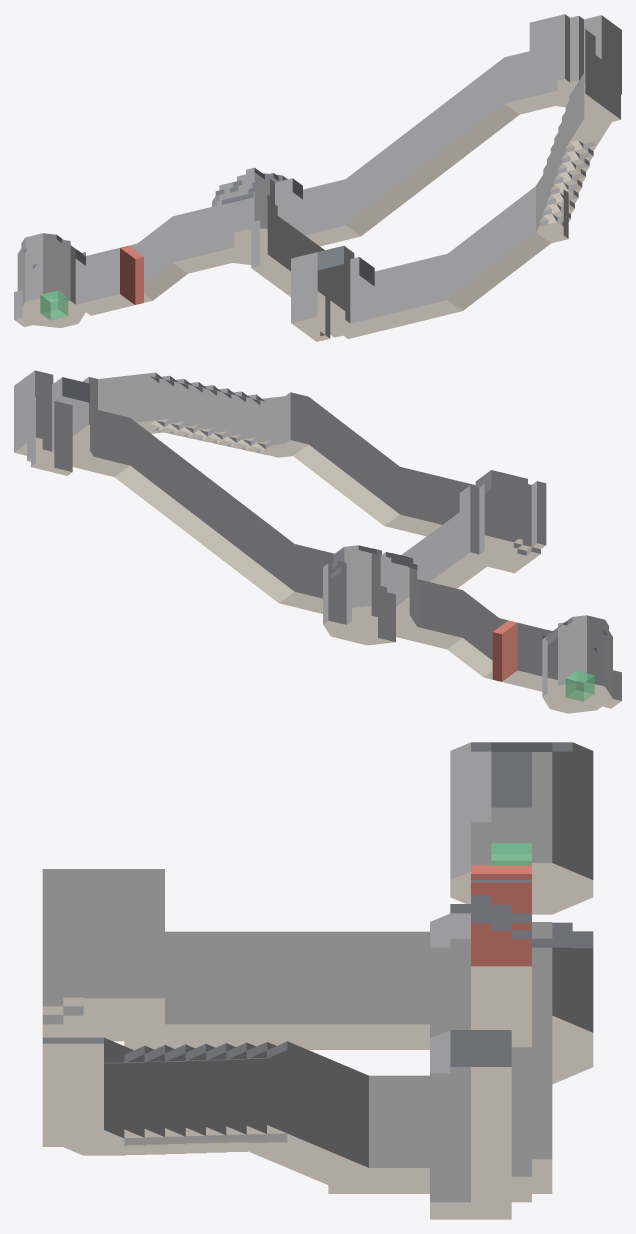
Rendered from habitat_08.glb.
3 views of the same model, one above another, from view 1: azimuth 30°, elevation 25°; view 2: azimuth 150°, elevation 25°; view 3: azimuth 270°, elevation 25° (orthographic). The views are drawn at different scales.
Visible parts, largest first — view 1: corridor:3, corridor:0, corridor:1, room:2, room:3, corridor:2, room:0, room:1, room:1/portals, entities, room:0/portals, room:3/portals (+2 smaller); view 2: corridor:3, corridor:0, corridor:1, room:2, room:3, room:1, corridor:2, room:0, room:1/portals, room:0/portals, entities, room:3/bases (+3 smaller); view 3: corridor:3, corridor:2, room:3, room:2, room:0, room:1, room:0/portals, entities, room:1/portals, corridor:1, corridor:0, room:1/cavern (+3 smaller).
Boxes of the visible parts, bbox=[...] form: corridor:3: bbox=[359, 55, 620, 332]; corridor:0: bbox=[292, 48, 554, 246]; corridor:1: bbox=[75, 205, 231, 315]; room:2: bbox=[17, 233, 85, 328]; room:3: bbox=[291, 245, 374, 341]; corridor:2: bbox=[251, 216, 343, 316]; room:0: bbox=[529, 14, 621, 107]; room:1: bbox=[212, 167, 287, 265]; room:1/portals: bbox=[217, 178, 292, 261]; entities: bbox=[40, 245, 143, 320]; room:0/portals: bbox=[540, 26, 595, 100]; room:3/portals: bbox=[345, 255, 359, 323]; corridor:3: bbox=[62, 372, 491, 541]; corridor:0: bbox=[78, 409, 344, 613]; corridor:1: bbox=[402, 579, 557, 692]; room:2: bbox=[542, 615, 612, 713]; room:3: bbox=[459, 470, 540, 573]; room:1: bbox=[323, 545, 417, 645]; corridor:2: bbox=[391, 512, 486, 614]; room:0: bbox=[14, 370, 93, 475]; room:1/portals: bbox=[328, 552, 395, 641]; room:0/portals: bbox=[42, 377, 72, 471]; entities: bbox=[492, 620, 594, 701]; room:3/bases: bbox=[514, 476, 546, 550]; corridor:3: bbox=[42, 1037, 429, 1193]; corridor:2: bbox=[165, 931, 429, 1049]; room:3: bbox=[42, 869, 164, 1049]; room:2: bbox=[450, 742, 593, 914]; room:0: bbox=[430, 1030, 552, 1219]; room:1: bbox=[430, 913, 593, 1084]; room:0/portals: bbox=[430, 1047, 531, 1202]; entities: bbox=[471, 843, 531, 966]; room:1/portals: bbox=[430, 922, 552, 1038]; corridor:1: bbox=[471, 822, 531, 1015]; corridor:0: bbox=[450, 992, 511, 1159]; room:1/cavern: bbox=[450, 895, 593, 948].
Bounding box in the file's own units: 66 × 18 × 27.
